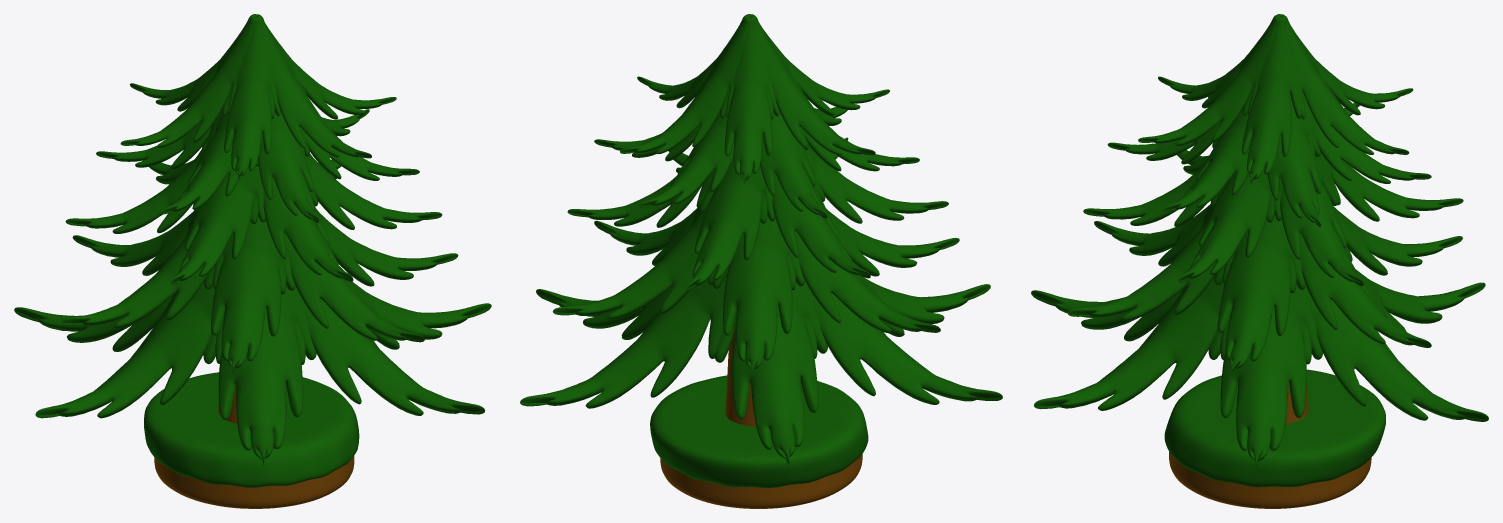
The model's file is Pine tree.glb.
3 renders of one model, left to right at view 1: azimuth 30°, elevation 25°; view 2: azimuth 150°, elevation 25°; view 3: azimuth 270°, elevation 25°, orthographic.
Visible parts, largest first — view 1: Plane013, Plane014, Plane010, Cylinder011, Plane012, Plane011, Cylinder010; view 2: Plane013, Plane014, Plane010, Plane012, Cylinder011, Plane011, Cylinder010, Vert027; view 3: Plane013, Plane014, Plane010, Cylinder011, Plane012, Plane011, Cylinder010.
Part boxes in pixels (box(x1,y1,x2,y2)): Plane013: box(14, 281, 491, 465); Plane014: box(61, 209, 458, 373); Plane010: box(120, 14, 396, 179); Cylinder011: box(144, 372, 359, 487); Plane012: box(65, 149, 442, 284); Plane011: box(96, 109, 419, 222); Cylinder010: box(154, 455, 354, 508); Plane013: box(520, 267, 1002, 465); Plane014: box(553, 208, 959, 374); Plane010: box(620, 14, 889, 183); Plane012: box(567, 137, 948, 290); Cylinder011: box(650, 375, 868, 487); Plane011: box(594, 107, 919, 218); Cylinder010: box(660, 454, 862, 508); Vert027: box(725, 328, 756, 426); Plane013: box(1031, 269, 1488, 468); Plane014: box(1067, 203, 1462, 374); Plane010: box(1138, 14, 1413, 183); Cylinder011: box(1164, 369, 1385, 487); Plane012: box(1083, 150, 1463, 286); Plane011: box(1107, 91, 1431, 227); Cylinder010: box(1169, 451, 1371, 508).
Bounding box in the file's own units: 1 × 0.9417 × 0.8532.
